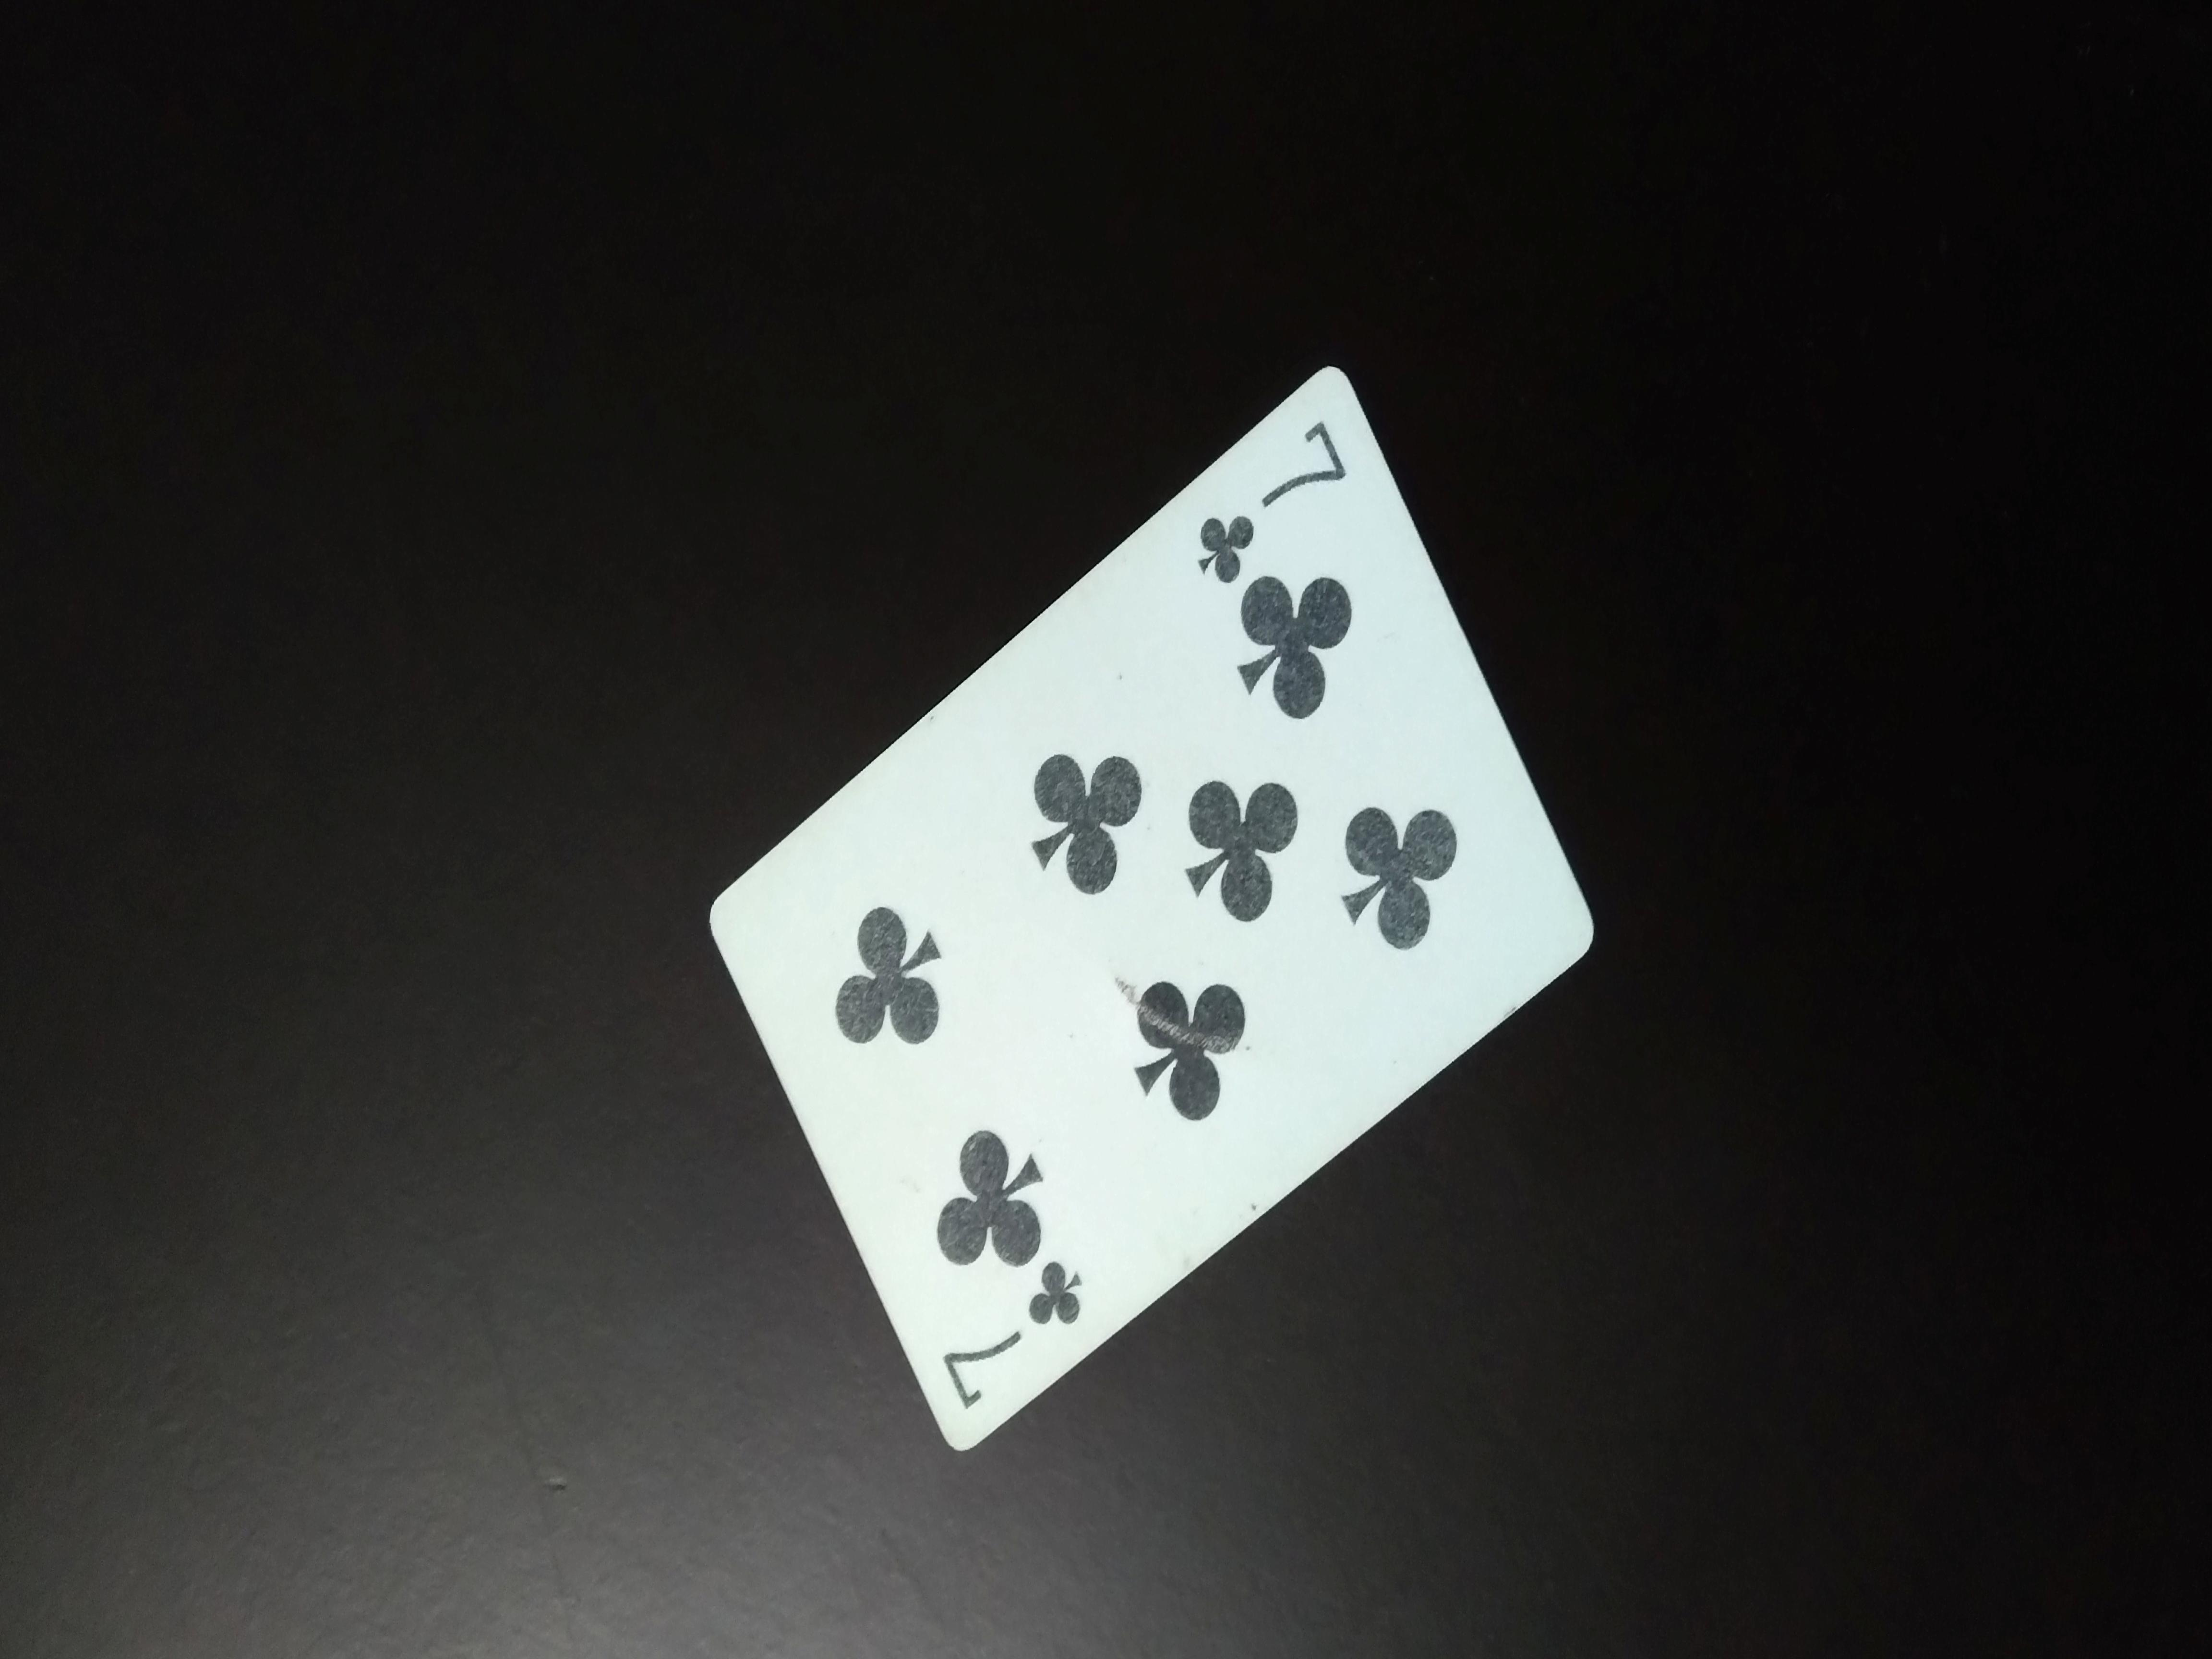7C: (1179, 404, 1360, 586)
